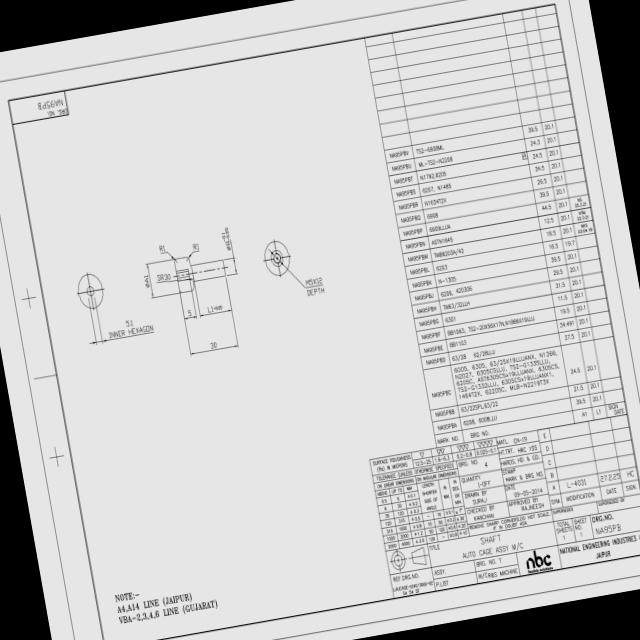dimension: (106, 314, 155, 339), (304, 274, 326, 298), (220, 225, 233, 252), (155, 270, 172, 283), (206, 302, 223, 313), (142, 273, 150, 289), (156, 242, 166, 253), (191, 241, 201, 251), (208, 340, 218, 350), (185, 308, 192, 317)
